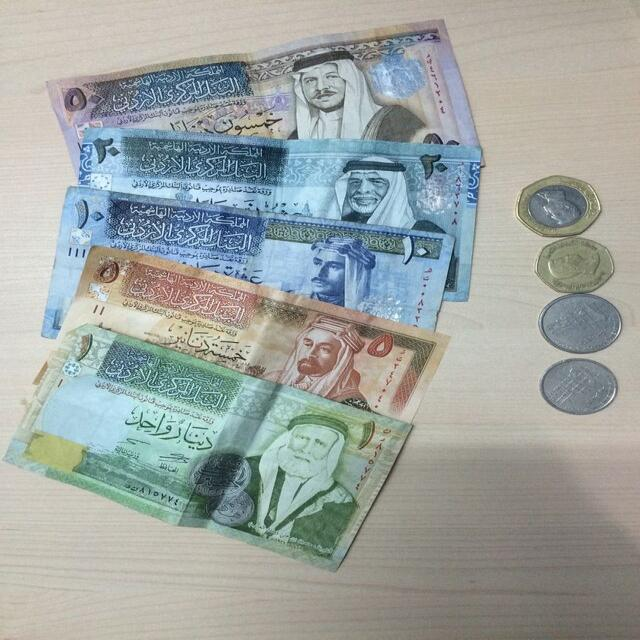10-coins: (536, 294, 628, 354)
25-coins: (534, 238, 618, 294)
5-coins: (539, 356, 618, 417)
50-coins: (514, 175, 604, 237)
50-dinar: (2, 324, 416, 572), (34, 243, 454, 424), (78, 127, 484, 302), (41, 19, 486, 178), (38, 186, 452, 341)
